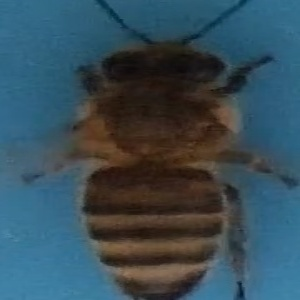bee: (32, 2, 298, 300)
